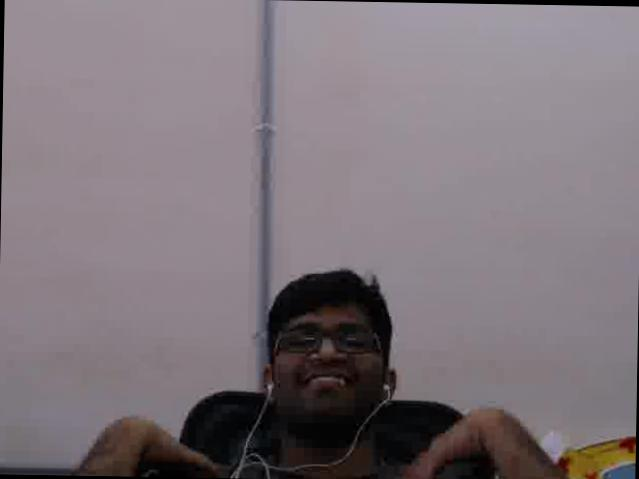bosan: (276, 296, 382, 414)
